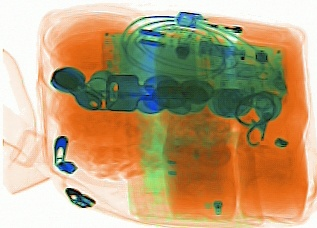lighter: (176, 9, 288, 40)
